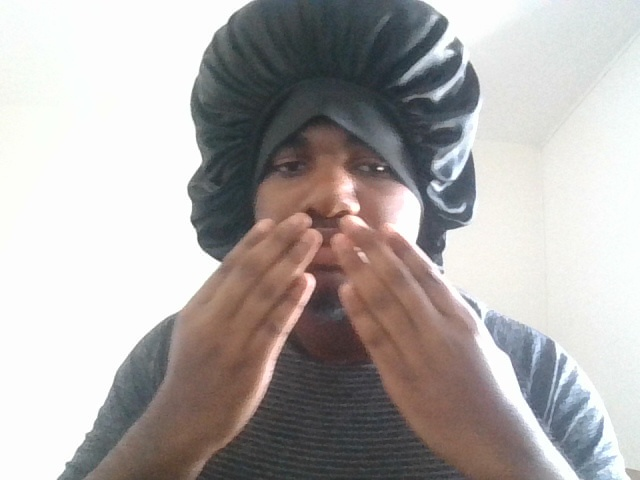Thank You: (91, 187, 640, 478)
